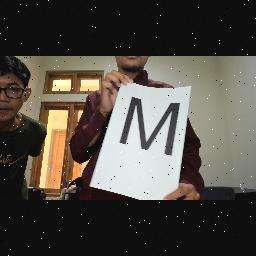m: (118, 93, 184, 161)
